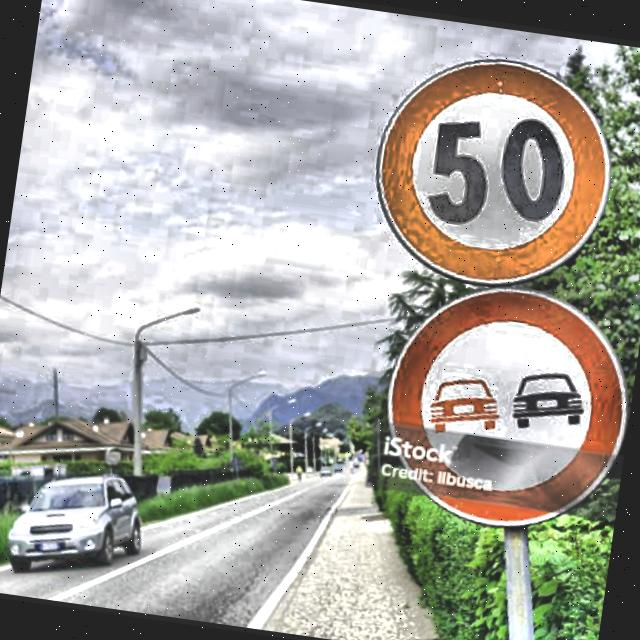speed_50: (365, 47, 625, 299)
